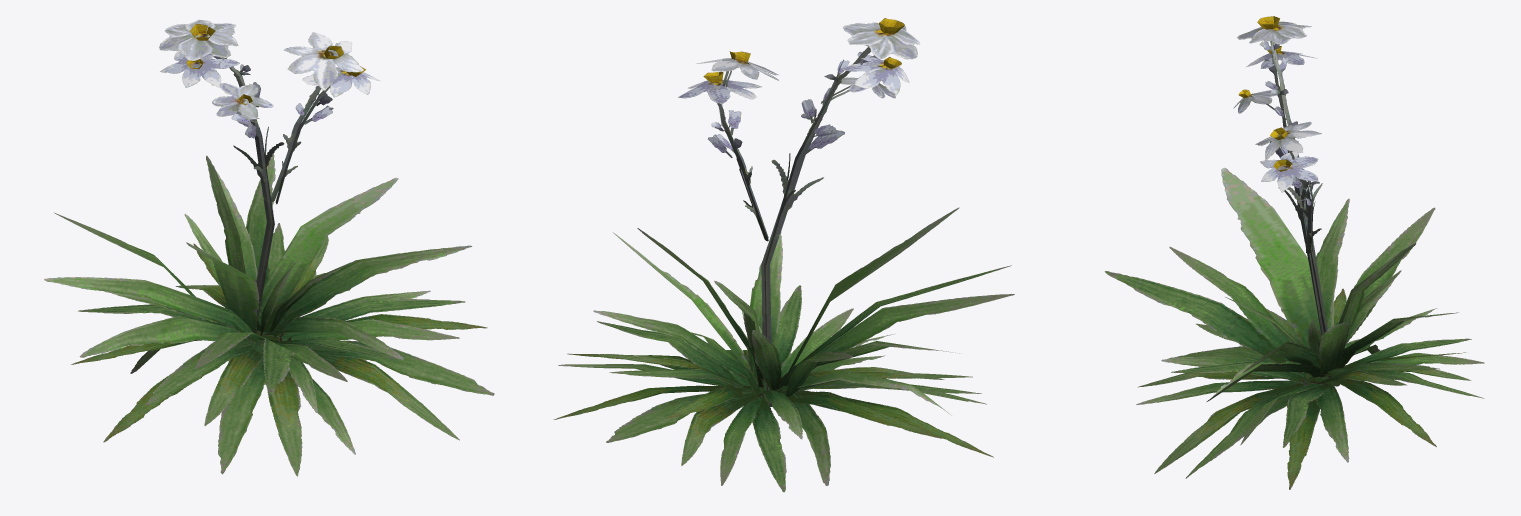
The model's file is 5006_Item_hua_1.FBX.
3 views of the same model, side by side, from view 1: azimuth 30°, elevation 25°; view 2: azimuth 150°, elevation 25°; view 3: azimuth 270°, elevation 25° (orthographic). The views are drawn at different scales.
Visible parts, largest first — view 1: 5006_Item_hua_1; view 2: 5006_Item_hua_1; view 3: 5006_Item_hua_1.
Boxes of the visible parts, box(x1,y1,x2,y2) form: 5006_Item_hua_1: box(44, 19, 494, 476); 5006_Item_hua_1: box(553, 18, 1014, 492); 5006_Item_hua_1: box(1104, 16, 1484, 489).
Size of the model in its own units: 325 by 295 by 296.
